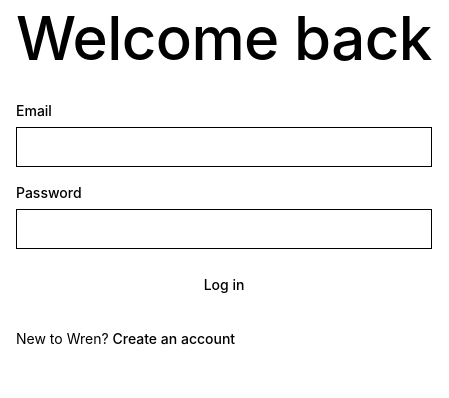
AuthView › shows a validation message when required fields are empty
The image size is (449, 398).
Step 1. Click the button "Log in" → (224, 285), box x1=16 y1=265 x2=432 y2=305
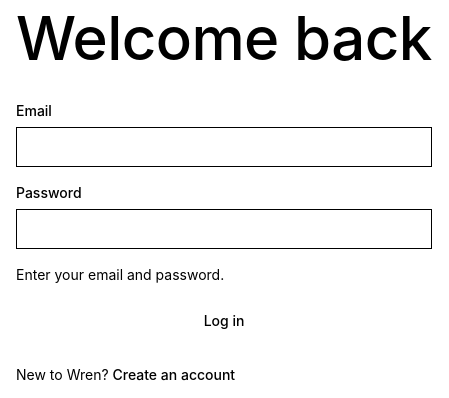
Check: the message reads "Enter your email and password.", box x1=16 y1=266 x2=224 y2=283
